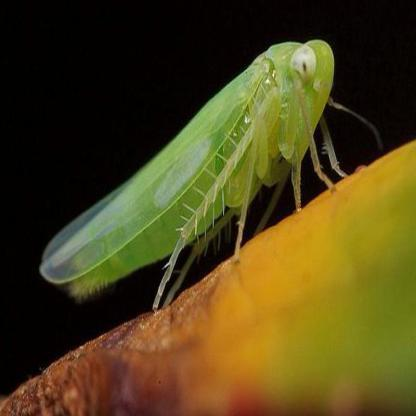green-leafhopper: (35, 41, 346, 310)
